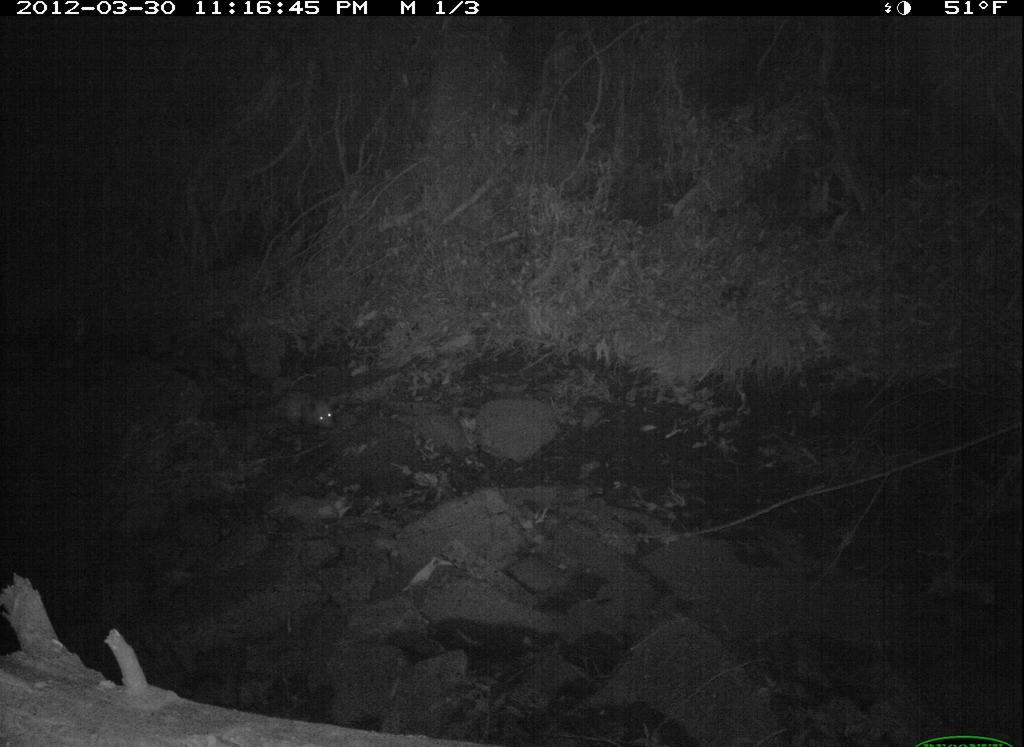opossum: (241, 376, 345, 433)
